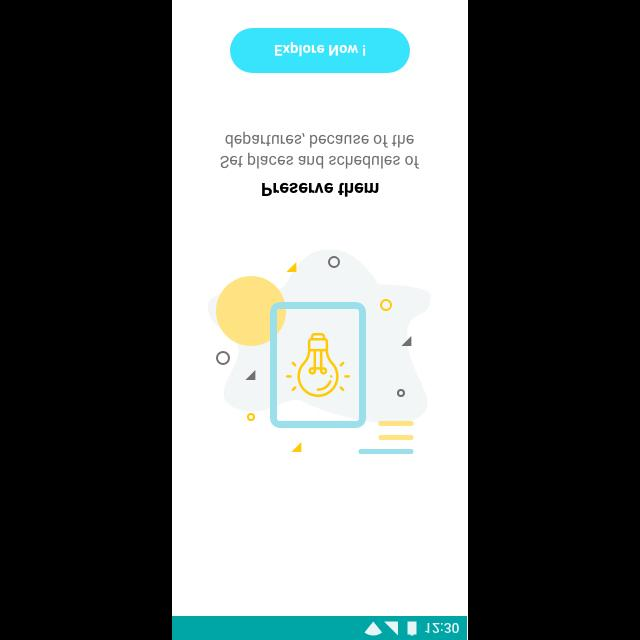image: (208, 248, 432, 456)
text: (220, 130, 420, 170), (262, 181, 380, 197)
textbutton: (230, 27, 410, 73)
uppertaskbar: (173, 615, 467, 639)
